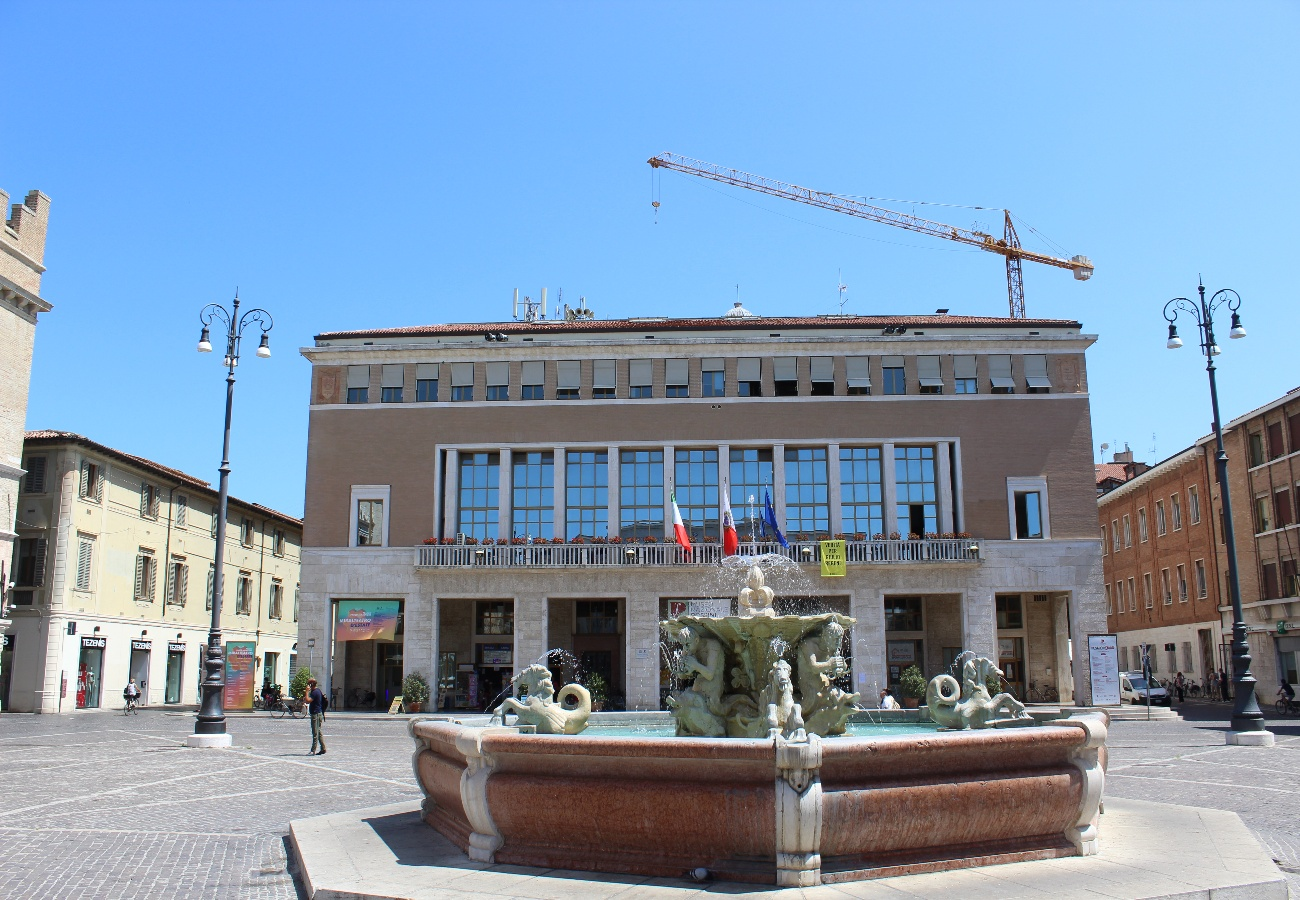Fontana Piazza del Popolo: (666, 618, 860, 742)
Palazzo Comunale: (309, 310, 1098, 712)
